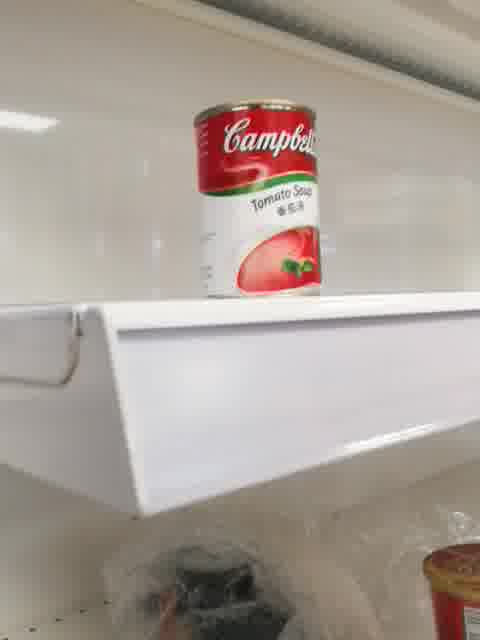tomatosoup: (192, 98, 323, 298)
